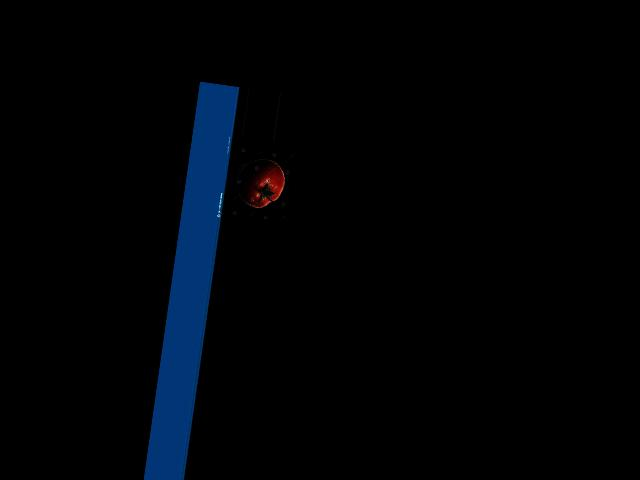tomato: (233, 155, 287, 211)
